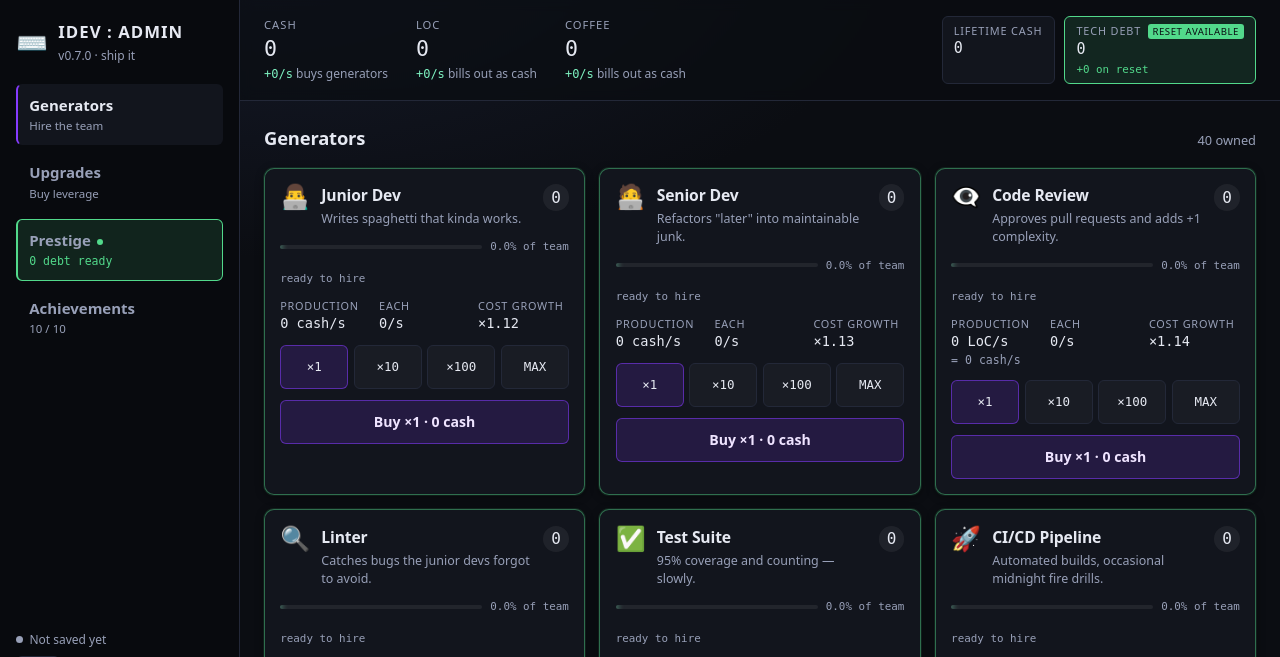
Test: the nav points at the unspent reset › does not disturb the Prestige panel, which already worked
Click the button "Prestige 0 debt ready" at (120, 250), box [16,219,223,280]
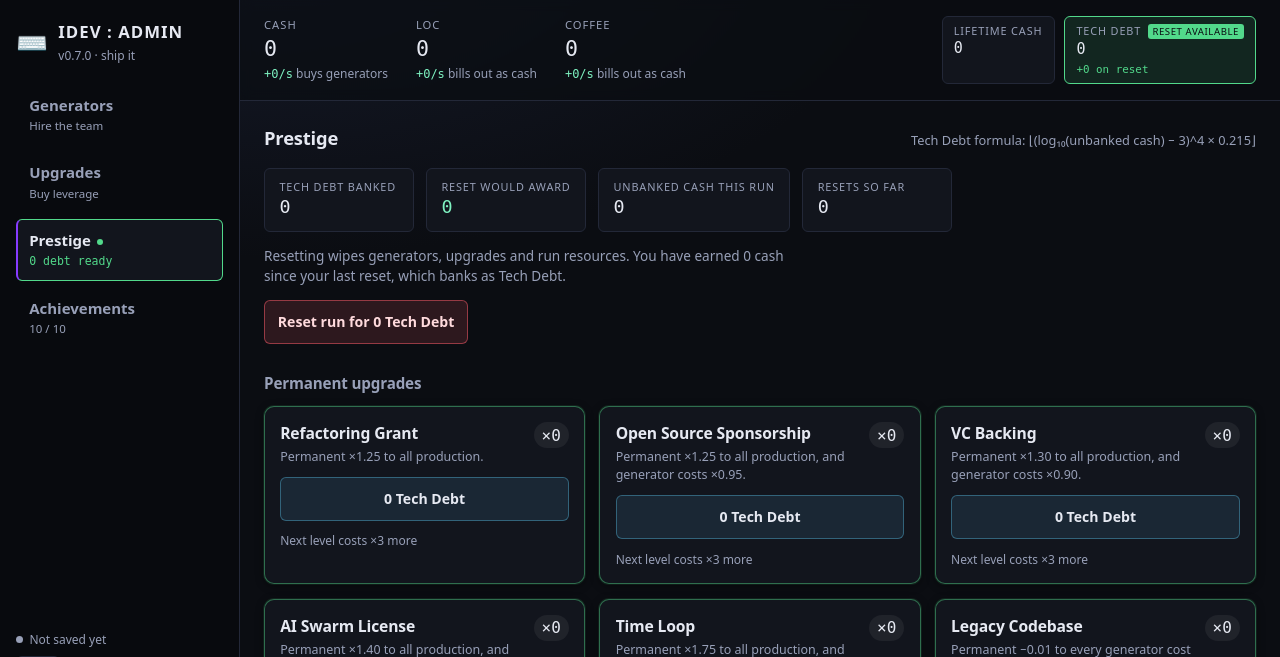
Check: the text "Reset would award" is shown, box [441,179,571,194]
Check: the text "Reset run for" is shown, box [264,300,468,344]
